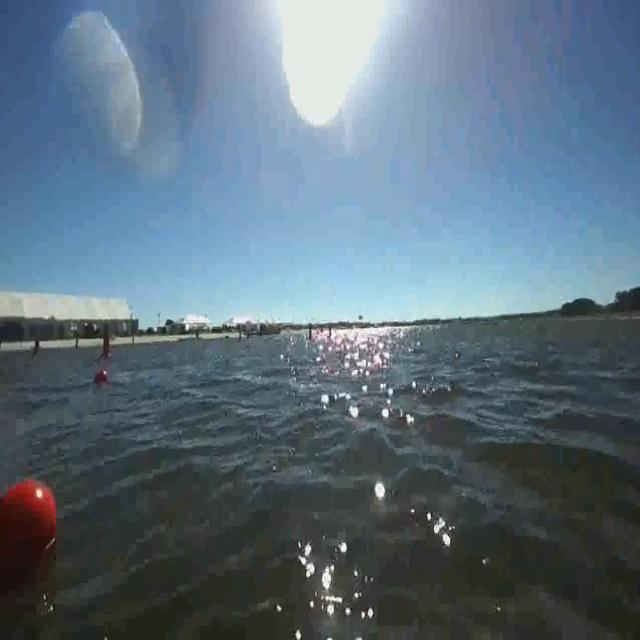red-buoy: (1, 476, 56, 557), (95, 370, 109, 383)
